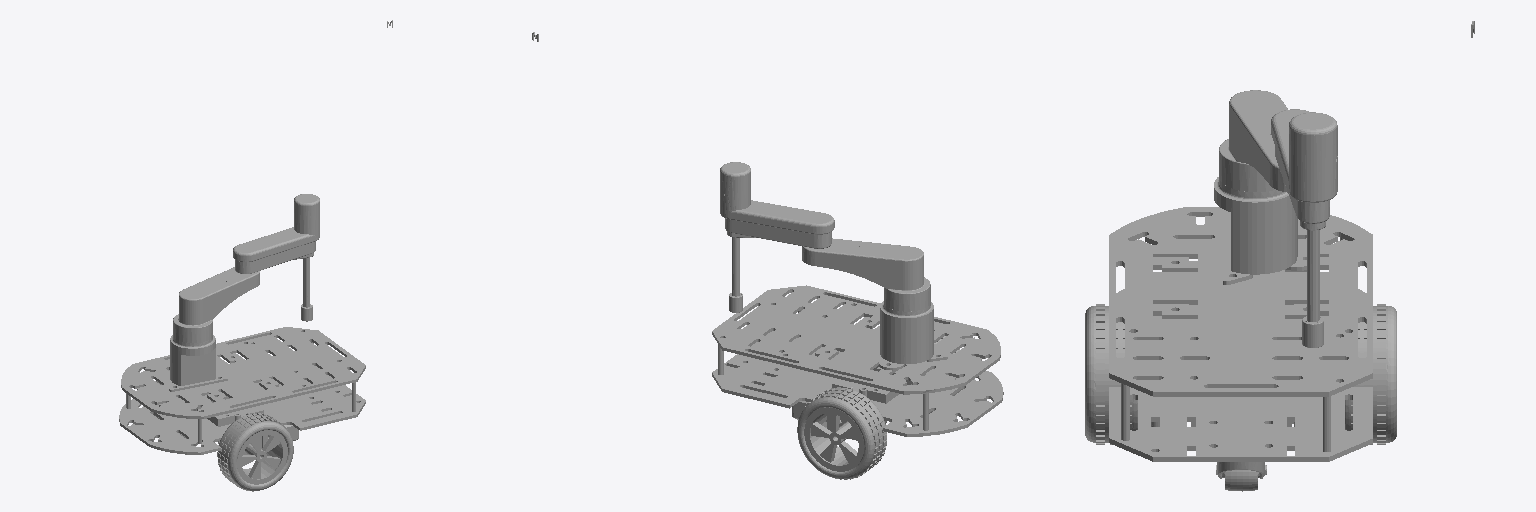
URDF robot description (robot_viet_an):
<?xml version="1.0"?>
<robot name="robot_viet_an">

  <link name="base_footprint"/>
  
  <joint name="base_joint" type="fixed">
    <parent link="base_footprint"/>
    <child link="base_link"/>
    <origin xyz="0 0 0.2" rpy="0 0 0"/> 
  </joint>

  <link name="base_link">
    <visual>
      <geometry><mesh filename="package://robot_final/meshes/link1.STL"/></geometry>
      <material name="grey"><color rgba="0.7 0.7 0.7 1"/></material>
    </visual>
    <collision>
      <geometry><box size="0.6 0.4 0.3"/></geometry>
    </collision>
    <inertial>
      <mass value="5.0"/>
      <inertia ixx="0.1" ixy="0" ixz="0" iyy="0.1" iyz="0" izz="0.1"/>
    </inertial>
  </link>

  <link name="camera_link"/>
  <joint name="camera_joint" type="fixed">
    <parent link="base_link"/><child link="camera_link"/><origin xyz="0.3 0 0.1"/></joint>
  <gazebo reference="camera_link">
    <sensor type="camera" name="my_camera">
      <update_rate>30.0</update_rate>
      <visualize>true</visualize>
      <camera><image><width>640</width><height>480</height></image></camera>
      <plugin name="camera_controller" filename="libgazebo_ros_camera.so">
        <frame_name>camera_link</frame_name>
      </plugin>
    </sensor>
  </gazebo>

  <link name="imu_link"/>
  <joint name="imu_joint" type="fixed">
    <parent link="base_link"/><child link="imu_link"/><origin xyz="0 0 0.05"/></joint>
  <gazebo reference="imu_link">
    <sensor name="imu_sensor" type="imu">
      <always_on>true</always_on>
      <plugin name="imu_plugin" filename="libgazebo_ros_imu_sensor.so">
        <ros><remapping>~/out:=imu</remapping></ros>
      </plugin>
    </sensor>
  </gazebo>

  <gazebo>
    <plugin name="object_controller" filename="libgazebo_ros_planar_move.so">
      <ros><remapping>cmd_vel:=cmd_vel</remapping><remapping>odom:=odom</remapping></ros>
      <update_rate>100.0</update_rate>
      <publish_rate>10.0</publish_rate>
      <publish_odom>true</publish_odom>
      <publish_odom_tf>true</publish_odom_tf>
      <odometry_frame>odom</odometry_frame>
      <robot_base_frame>base_footprint</robot_base_frame>
    </plugin>
  </gazebo>

  <gazebo reference="base_link">
    <mu1>0.01</mu1><mu2>0.01</mu2>
    <material>Gazebo/Grey</material>
  </gazebo>

</robot>

--- Facts derived from the render (not from the file) ---
The picture shows the robot from 3 angles, left to right: view 1: azimuth 30°, elevation 25°; view 2: azimuth 150°, elevation 25°; view 3: azimuth 270°, elevation 25°; orthographic projection.
Model robot_viet_an with 4 links and 3 joints (3 fixed), rooted at base_footprint, posed every joint at zero.
Links seen in each view (by area): view 1: base_link; view 2: base_link; view 3: base_link.
Link boxes in pixels (bbox=[...]): base_link: bbox=[119, 20, 392, 491]; base_link: bbox=[532, 32, 1003, 479]; base_link: bbox=[1085, 21, 1474, 491].
Bounding box of the posed robot: 0.3088 × 0.1763 × 0.3114 m (x, y, z).
Meshes: 1 distinct files referenced, 1 mesh visuals loaded (1 binary STL).
